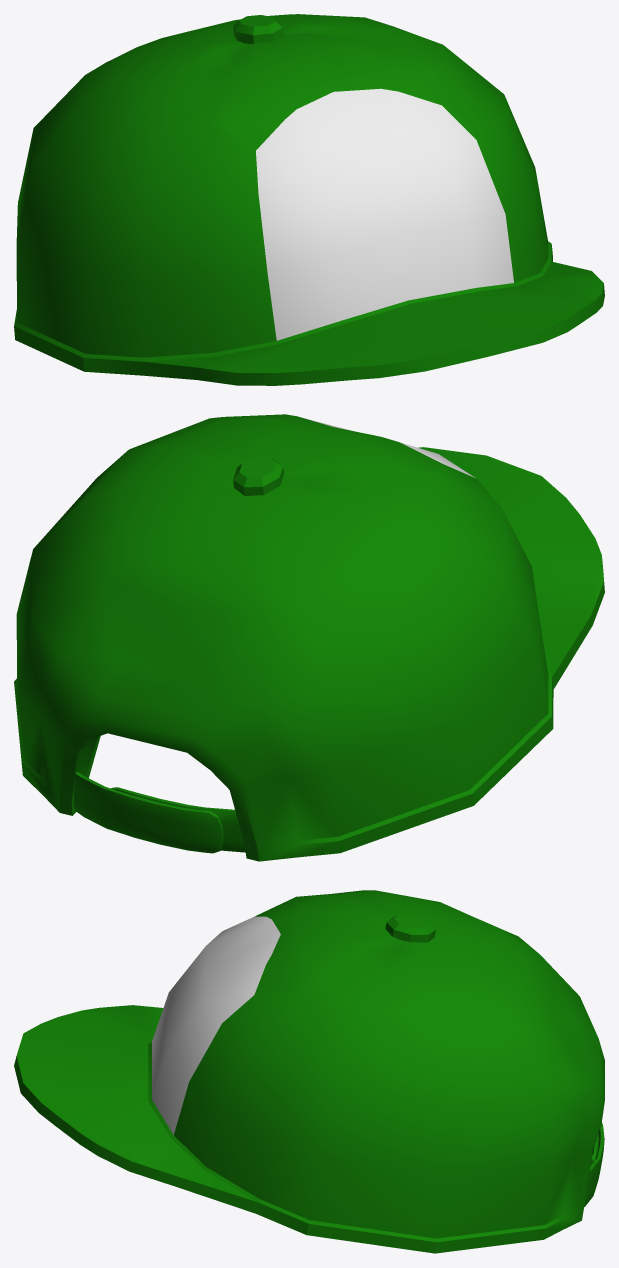
The model's file is Head_Cap_Green.fbx.
3 views of the same model, one above another, from view 1: azimuth 30°, elevation 25°; view 2: azimuth 150°, elevation 25°; view 3: azimuth 270°, elevation 25° (orthographic). The views are drawn at different scales.
Parts seen in each view (by area): view 1: Head_Cap_Green; view 2: Head_Cap_Green; view 3: Head_Cap_Green.
Part boxes in pixels (x1,y1,x2,y2): Head_Cap_Green: [14, 14, 604, 385]; Head_Cap_Green: [14, 414, 604, 861]; Head_Cap_Green: [14, 890, 604, 1253].
Bounding box in the file's own units: 101 × 62.13 × 128.
